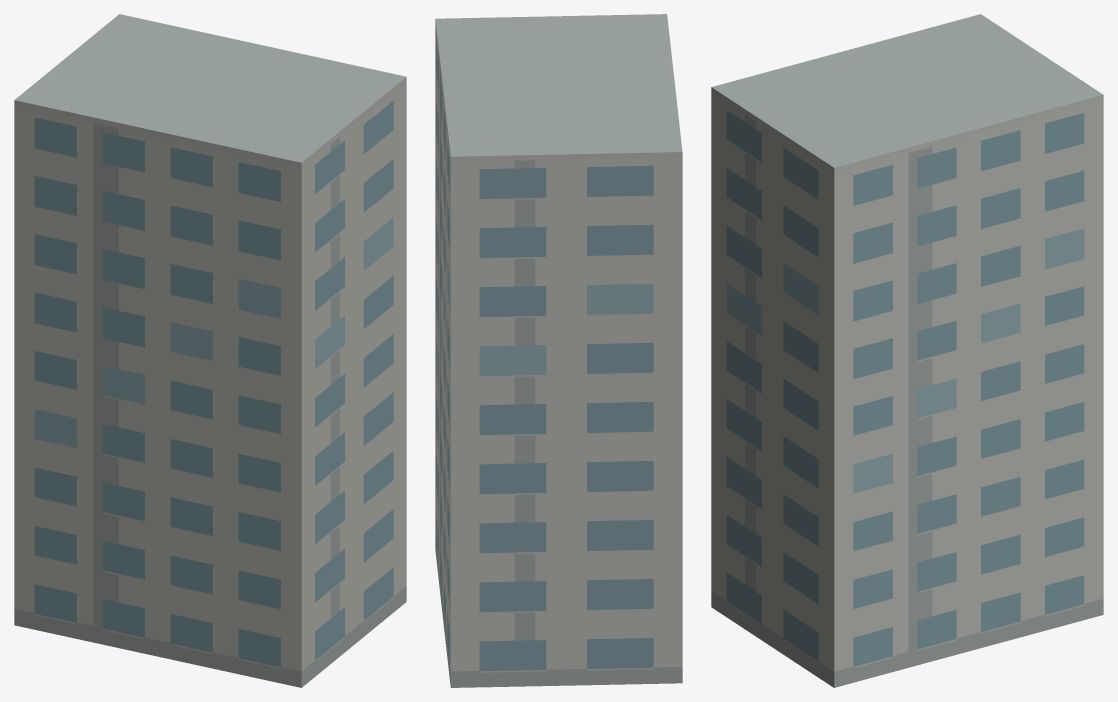
File: residential-35258649-64da-4b40-acc5-e84120d59a7c.glb
3 renders of one model, left to right at view 1: azimuth 30°, elevation 25°; view 2: azimuth 150°, elevation 25°; view 3: azimuth 270°, elevation 25°, orthographic. The views are drawn at different scales.
Visible parts, largest first — view 1: residential-35258649-64da-4b40-acc5-e84120d59a7c.tmp; view 2: residential-35258649-64da-4b40-acc5-e84120d59a7c.tmp; view 3: residential-35258649-64da-4b40-acc5-e84120d59a7c.tmp.
Part boxes in pixels (x1,y1,x2,y2): residential-35258649-64da-4b40-acc5-e84120d59a7c.tmp: (14, 14, 406, 687); residential-35258649-64da-4b40-acc5-e84120d59a7c.tmp: (435, 14, 682, 687); residential-35258649-64da-4b40-acc5-e84120d59a7c.tmp: (711, 14, 1103, 687).
Size of the model in its own units: 15.23 by 24 by 16.41.
